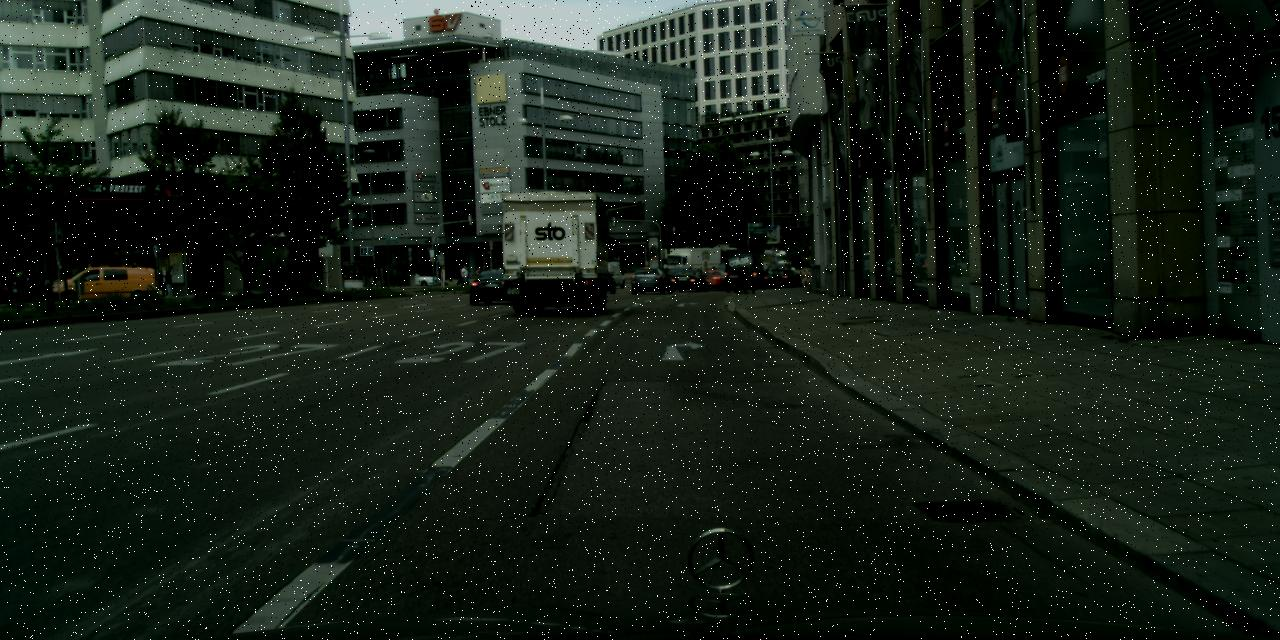ped: (158, 266, 170, 296), (162, 270, 172, 296), (460, 264, 468, 284), (462, 266, 470, 284), (456, 266, 463, 284), (480, 264, 486, 282), (476, 265, 482, 283), (447, 264, 453, 280)
